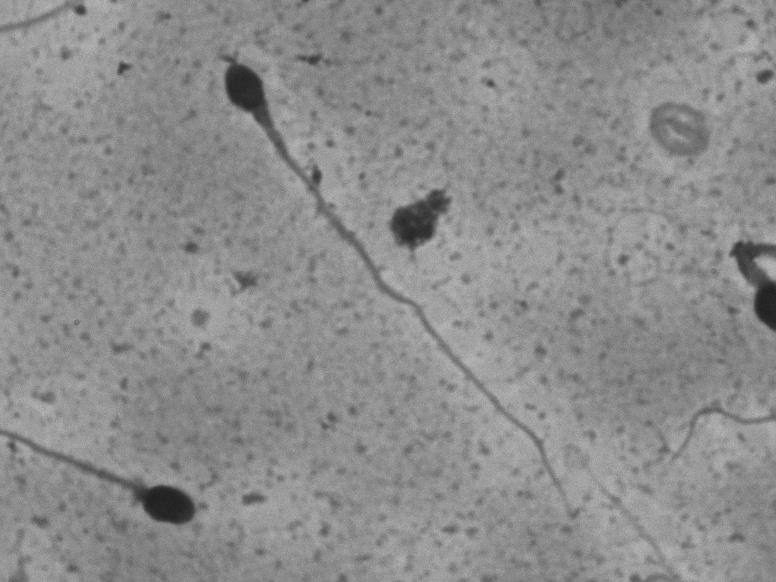Abnormal: (213, 48, 589, 532), (23, 410, 220, 564)
